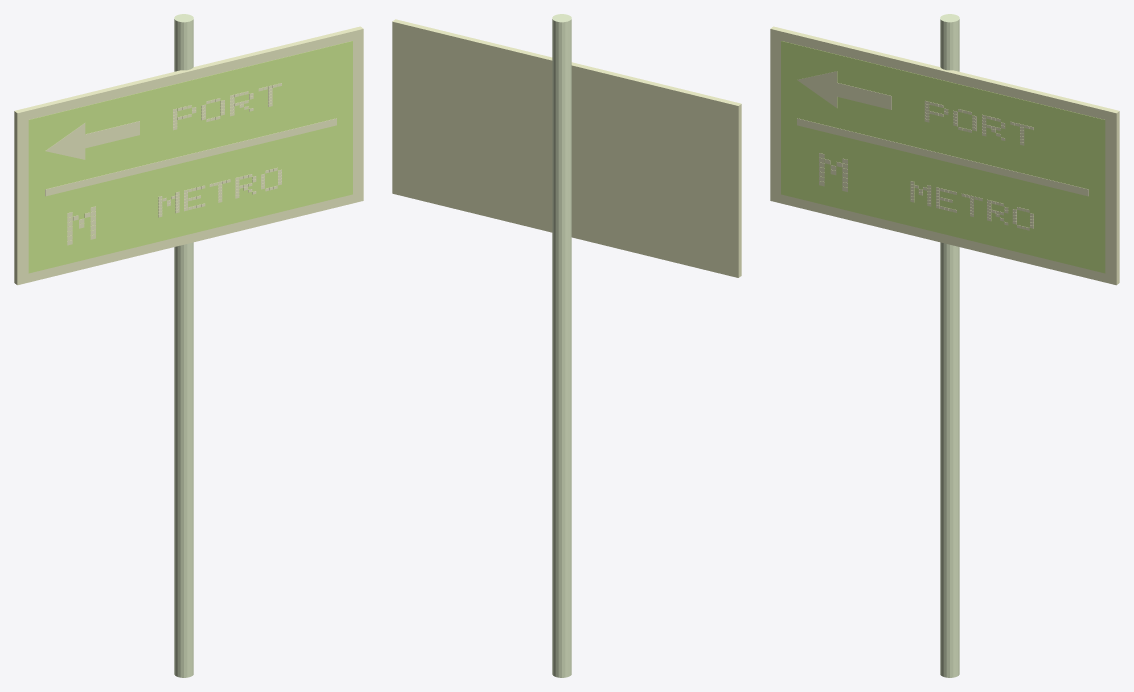
File: sign_destination_stack_metro_port_left.glb
The picture shows the model from 3 angles, left to right: view 1: azimuth 30°, elevation 25°; view 2: azimuth 150°, elevation 25°; view 3: azimuth 330°, elevation 25°; orthographic projection.
Visible parts, largest first — view 1: layer_1_00, plate_base_00, pole, layer_2_00, layer_2_160, layer_2_161; view 2: plate_base_00, pole; view 3: layer_1_00, plate_base_00, pole, layer_2_00, layer_2_160, layer_2_161.
Part boxes in pixels (x1=…): layer_1_00: x1=28, y1=41, x2=352, y2=273; plate_base_00: x1=14, y1=26, x2=363, y2=285; pole: x1=174, y1=14, x2=193, y2=677; layer_2_00: x1=45, y1=118, x2=336, y2=196; layer_2_160: x1=85, y1=121, x2=139, y2=148; layer_2_161: x1=45, y1=123, x2=85, y2=159; plate_base_00: x1=392, y1=19, x2=741, y2=277; pole: x1=552, y1=14, x2=571, y2=677; layer_1_00: x1=781, y1=41, x2=1105, y2=273; plate_base_00: x1=770, y1=26, x2=1119, y2=285; pole: x1=940, y1=14, x2=959, y2=677; layer_2_00: x1=797, y1=118, x2=1088, y2=196; layer_2_160: x1=837, y1=83, x2=891, y2=109; layer_2_161: x1=797, y1=71, x2=837, y2=107.
Size of the model in its own units: 1.22 by 2.2 by 0.0725.
